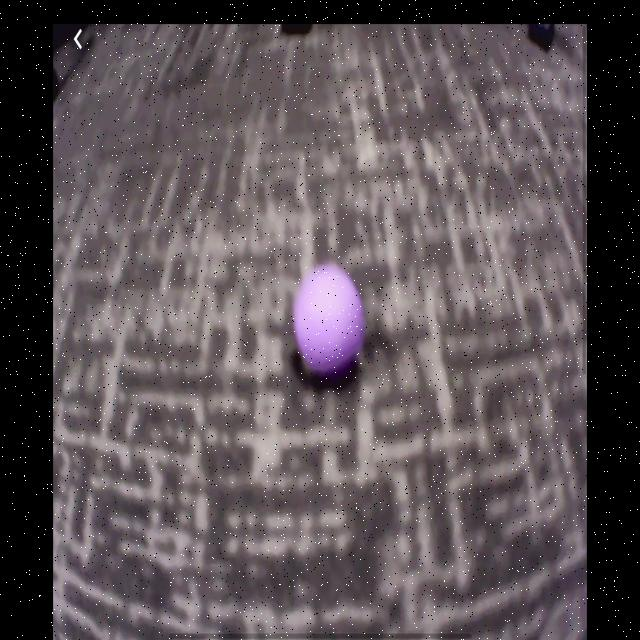ball: (292, 261, 367, 378)
